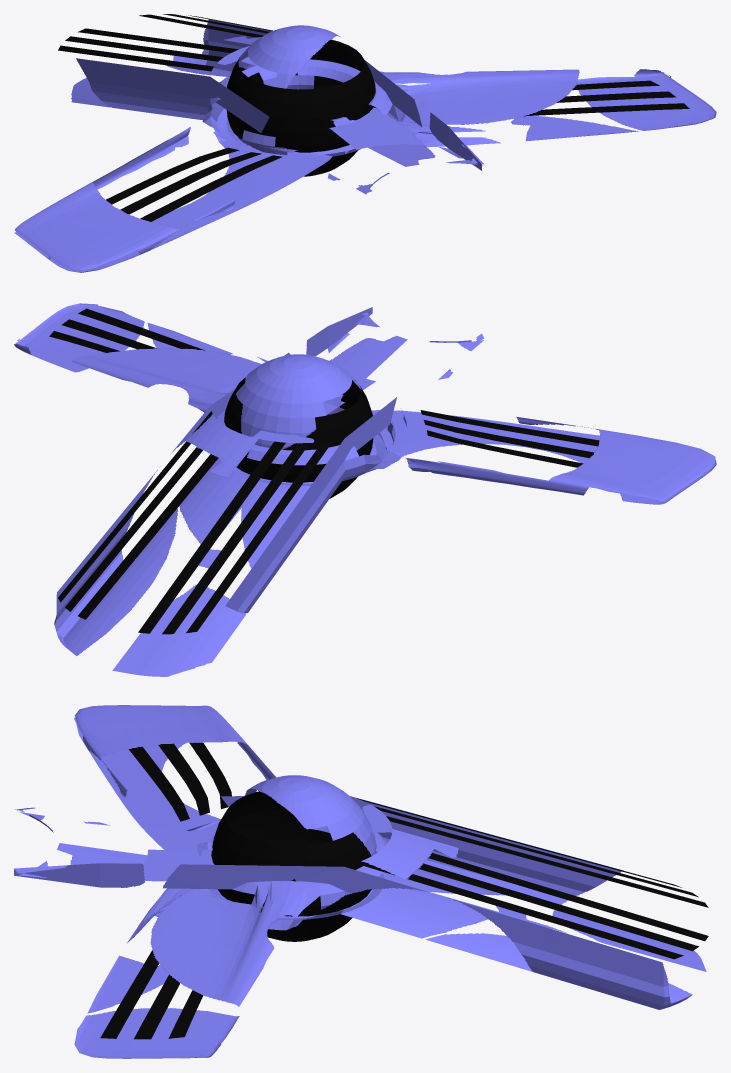
Rendered from ship4.obj.
3 renders of one model, top to bottom at view 1: azimuth 30°, elevation 25°; view 2: azimuth 150°, elevation 25°; view 3: azimuth 270°, elevation 25°, orthographic. The views are drawn at different scales.
Parts seen in each view (by area): view 1: Torus; view 2: Torus; view 3: Torus.
Boxes of the visible parts, bbox=[...] form: Torus: bbox=[14, 14, 716, 272]; Torus: bbox=[14, 303, 716, 676]; Torus: bbox=[14, 705, 708, 1058].
Bounding box in the file's own units: 9.97 × 2.51 × 8.42.
